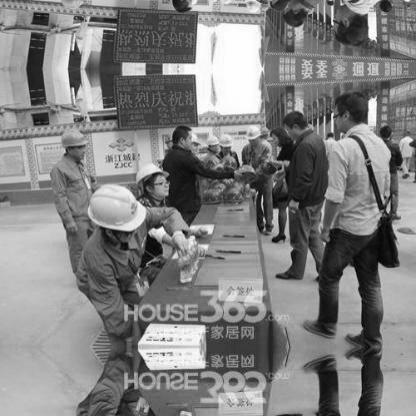helmet: (83, 187, 147, 246), (134, 161, 176, 201), (59, 128, 89, 162), (218, 132, 235, 155), (244, 124, 260, 147), (59, 0, 90, 11), (187, 131, 201, 155), (244, 0, 261, 15), (206, 135, 219, 154), (217, 0, 235, 7), (187, 0, 202, 8), (205, 0, 219, 4)
